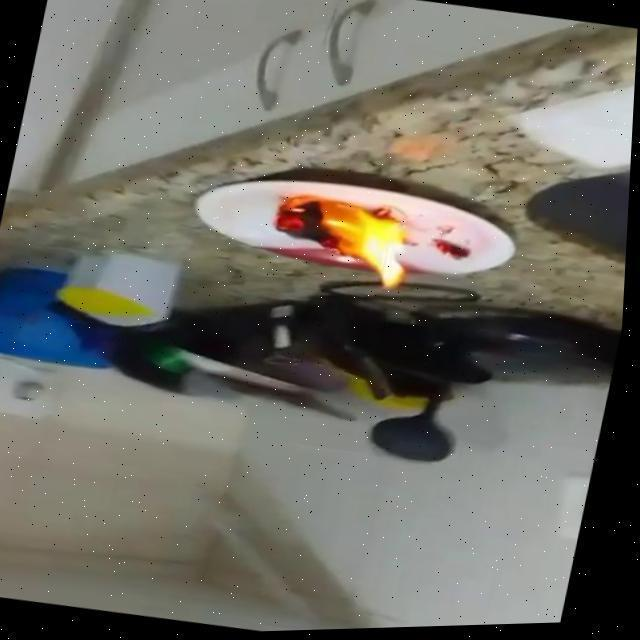fire: (261, 183, 427, 297)
